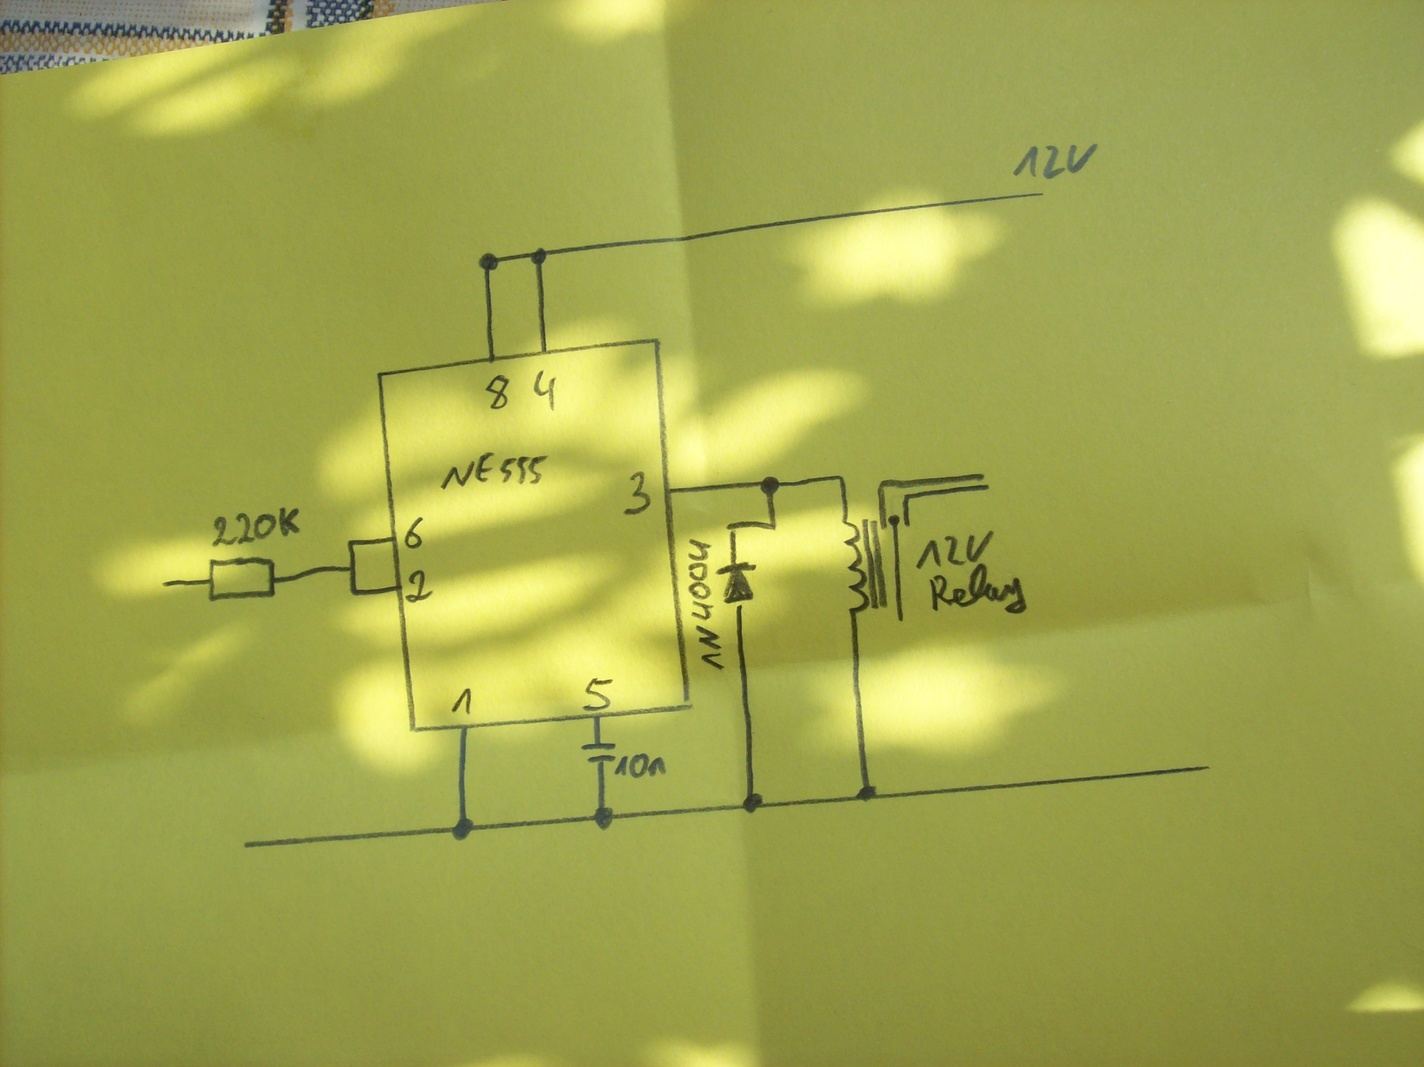capacitor.unpolarized: (578, 740, 618, 766)
diode: (714, 559, 761, 609)
integrated_cricuit.ne555: (374, 334, 696, 736)
junction: (589, 804, 618, 833), (739, 790, 766, 816), (449, 816, 476, 842), (853, 783, 879, 805), (477, 250, 501, 273), (756, 474, 781, 497), (528, 245, 549, 267), (723, 519, 741, 536), (764, 517, 780, 533), (347, 584, 362, 599), (875, 477, 888, 493), (345, 562, 360, 575), (834, 472, 848, 485), (344, 537, 357, 549), (899, 492, 912, 504)
relay: (840, 509, 913, 614)
resistor: (204, 553, 281, 603)
terminal: (1197, 761, 1218, 777), (1033, 186, 1052, 202), (239, 837, 255, 851), (158, 577, 173, 592), (895, 613, 909, 627), (981, 481, 994, 492), (977, 471, 988, 482)
text: (685, 535, 726, 672), (927, 564, 1031, 616), (439, 449, 550, 492), (211, 504, 305, 549), (1009, 142, 1101, 182), (914, 530, 996, 570), (620, 470, 653, 519), (613, 751, 669, 780), (532, 368, 560, 412), (581, 676, 615, 712), (404, 568, 435, 606), (484, 372, 512, 412), (403, 513, 426, 551), (449, 686, 473, 717)
